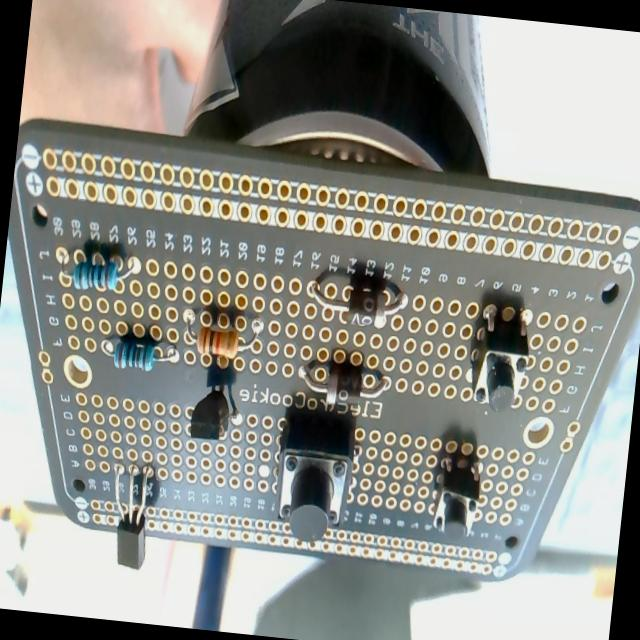diode: (308, 271, 409, 330), (299, 354, 389, 412)
resistor: (183, 311, 263, 365), (67, 250, 139, 298), (102, 333, 178, 375)
switch: (270, 412, 360, 544), (466, 302, 535, 416), (428, 446, 484, 541)
transistor: (102, 461, 156, 572), (186, 380, 243, 446)
